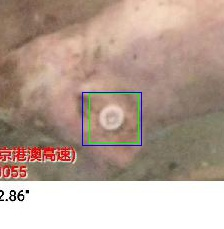text: (89, 93, 138, 143)
